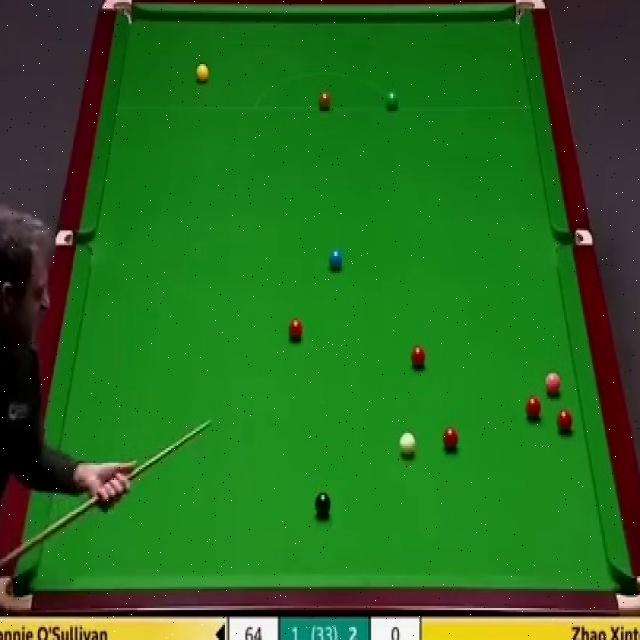black-ball: (314, 490, 331, 516)
blue-ball: (330, 248, 342, 272)
brown-ball: (318, 92, 332, 111)
green-ball: (386, 90, 398, 111)
pink-ball: (545, 370, 562, 397)
red-ball: (441, 426, 459, 452), (411, 342, 427, 369), (525, 397, 542, 419), (558, 411, 573, 434), (290, 318, 302, 342)
white-ball: (398, 431, 417, 460)
yellow-ball: (196, 63, 210, 86)
